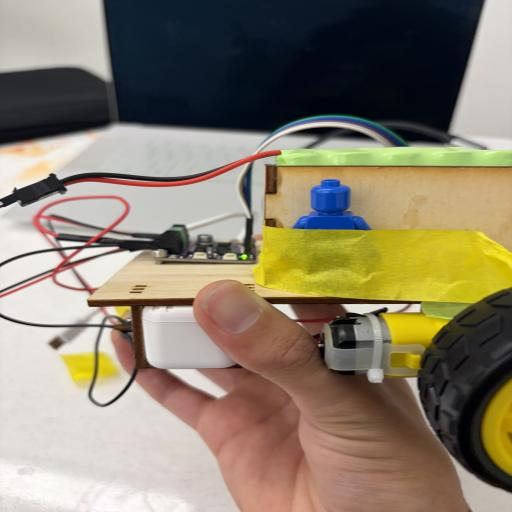Blue-Lego: (293, 179, 371, 230), (477, 274, 479, 276)
